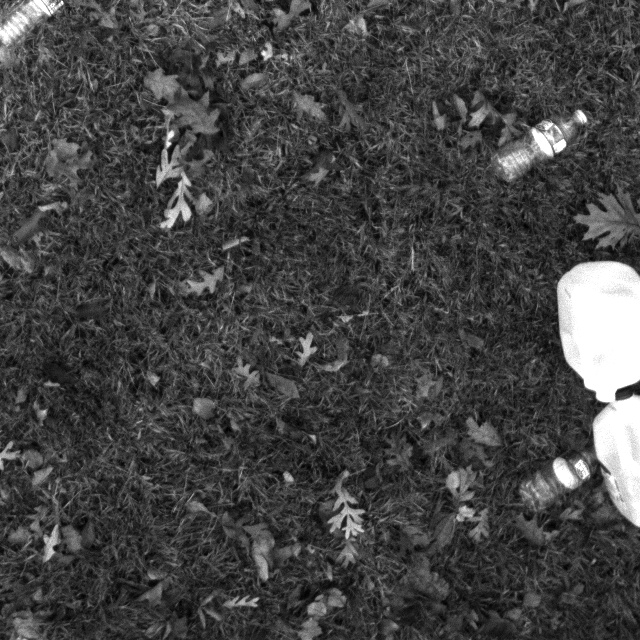bottle: (488, 104, 601, 176), (518, 445, 599, 521), (0, 0, 99, 59)
can: (552, 260, 640, 410), (590, 397, 640, 540)
